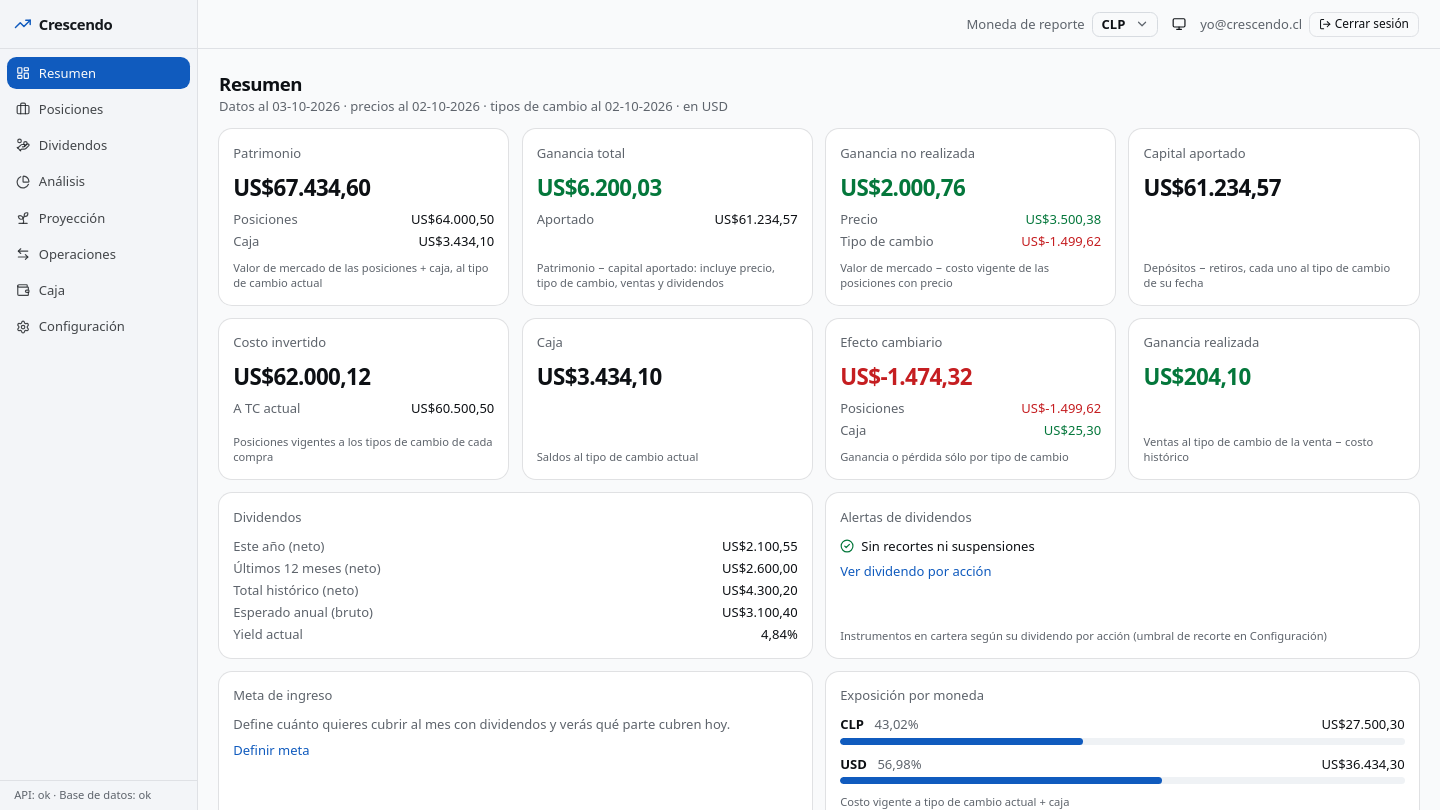
it: App — rutas y moneda de reporte › "/" es el Resumen, en la moneda de las preferencias; Dividendos queda a un clic
The width and height of the screenshot is (1440, 810).
Expected: the heading "Resumen" is shown, 219,71 -> 302,96
Expected: the dropdown labelled "Moneda de reporte" shows "CLP", 1092,12 -> 1158,37
Click the link "Dividendos".
click(62, 145)  # box 16,136 -> 107,154
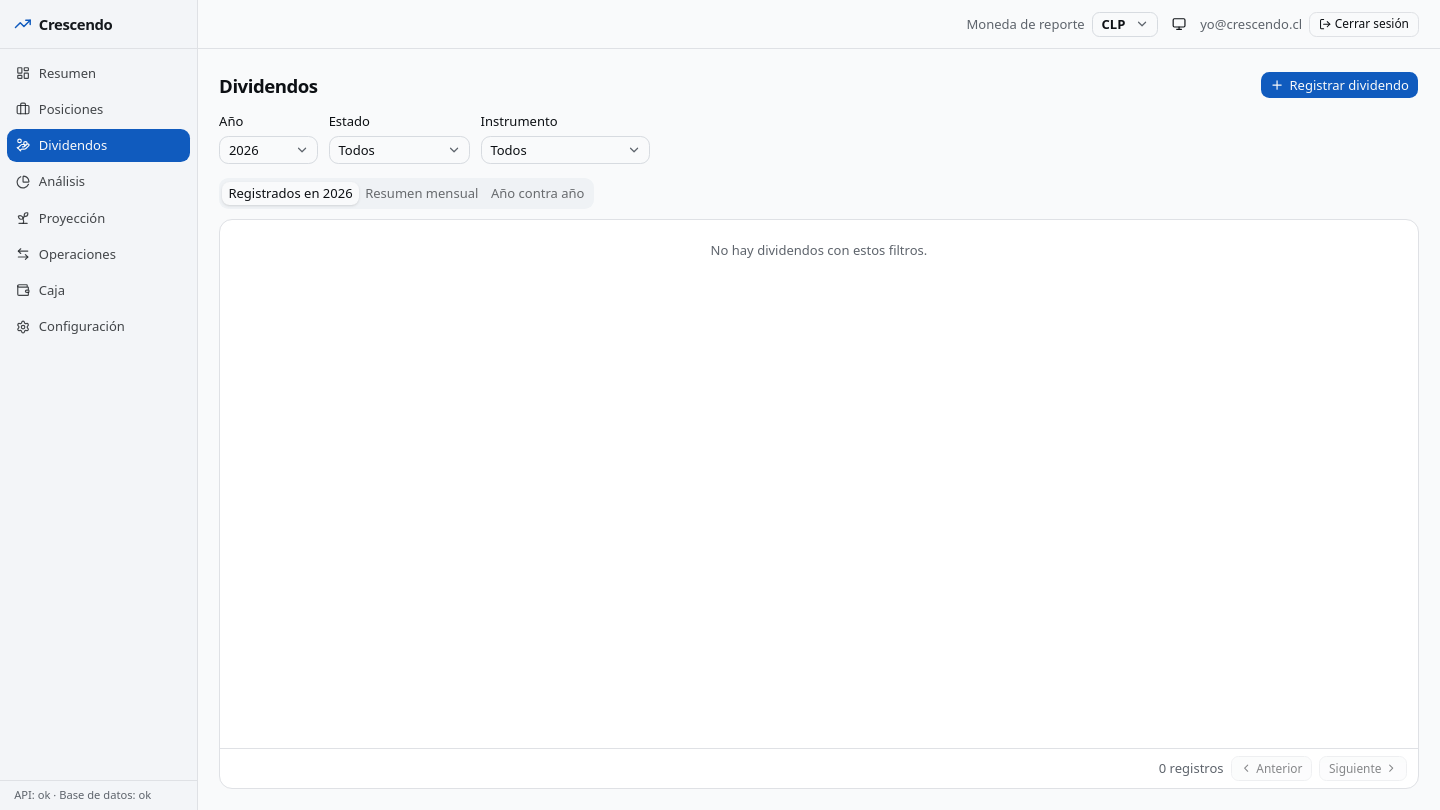
Now the heading "Dividendos" is shown, box 219,73 -> 318,99
